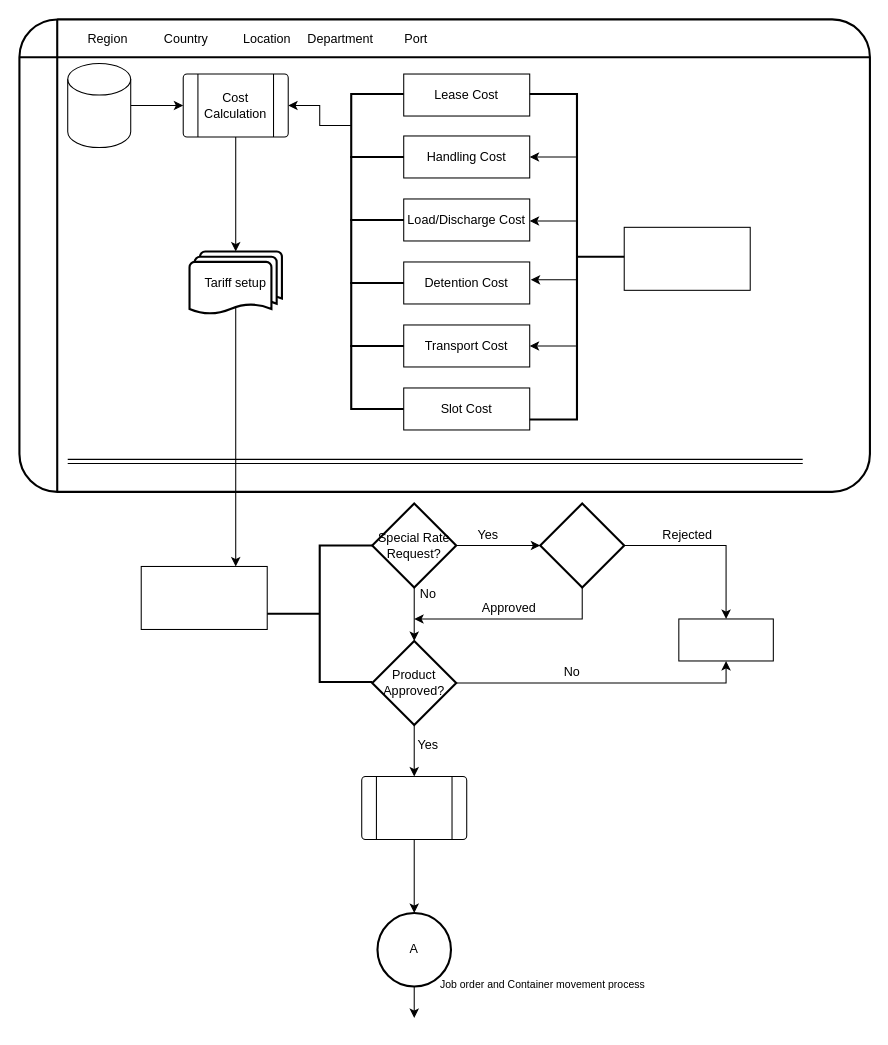
This 888x1045 diagram has some shape labels left out. The centre of each missing label's shape, as x and y in pixels:
"Approve/ Reject?" goes at point (582, 545).
"End" goes at point (725, 639).
"Enquiry" goes at point (203, 597).
"Masters" goes at point (99, 105).
"Quotation" goes at point (414, 807).
"Vendor Contracts" goes at point (686, 258).
